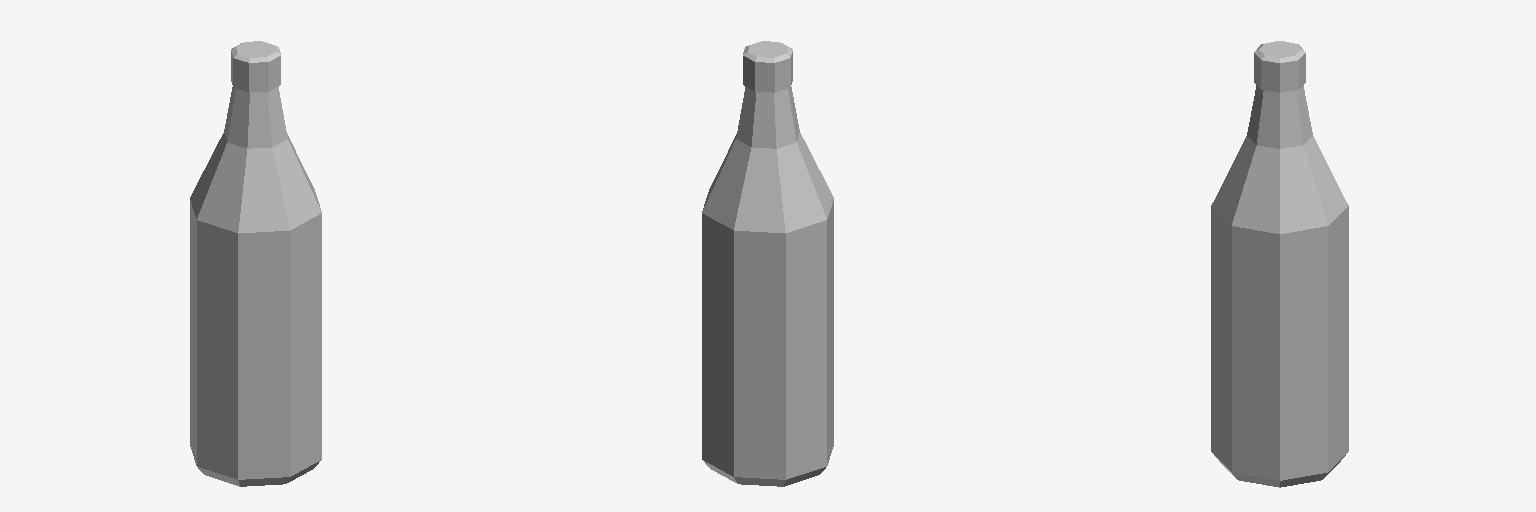
The model's file is jaloviina.obj.
The picture shows the model from 3 angles: view 1: azimuth 30°, elevation 25°; view 2: azimuth 150°, elevation 25°; view 3: azimuth 270°, elevation 25°; orthographic projection.
Visible parts, largest first — view 1: JV_Cube; view 2: JV_Cube; view 3: JV_Cube.
Boxes of the visible parts, x1=… form: JV_Cube: x1=190, y1=41, x2=321, y2=486; JV_Cube: x1=702, y1=41, x2=833, y2=486; JV_Cube: x1=1211, y1=41, x2=1348, y2=487.
Bounding box in the file's own units: 1.89 × 6.29 × 1.89.